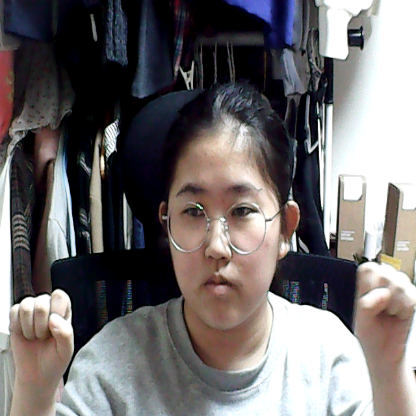Finger_0: (1, 286, 86, 388), (352, 249, 416, 372)
